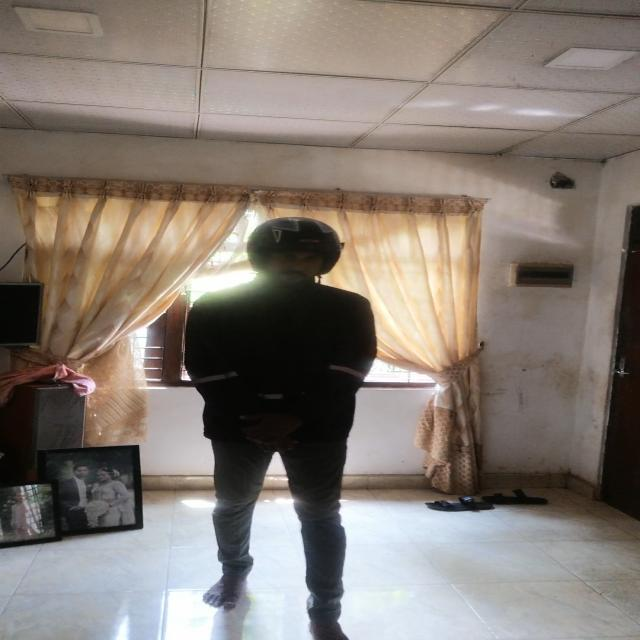Helmet_Wearer: (238, 219, 344, 293)
Jacket_Wearer: (180, 280, 384, 461)
Person: (178, 216, 372, 640)
